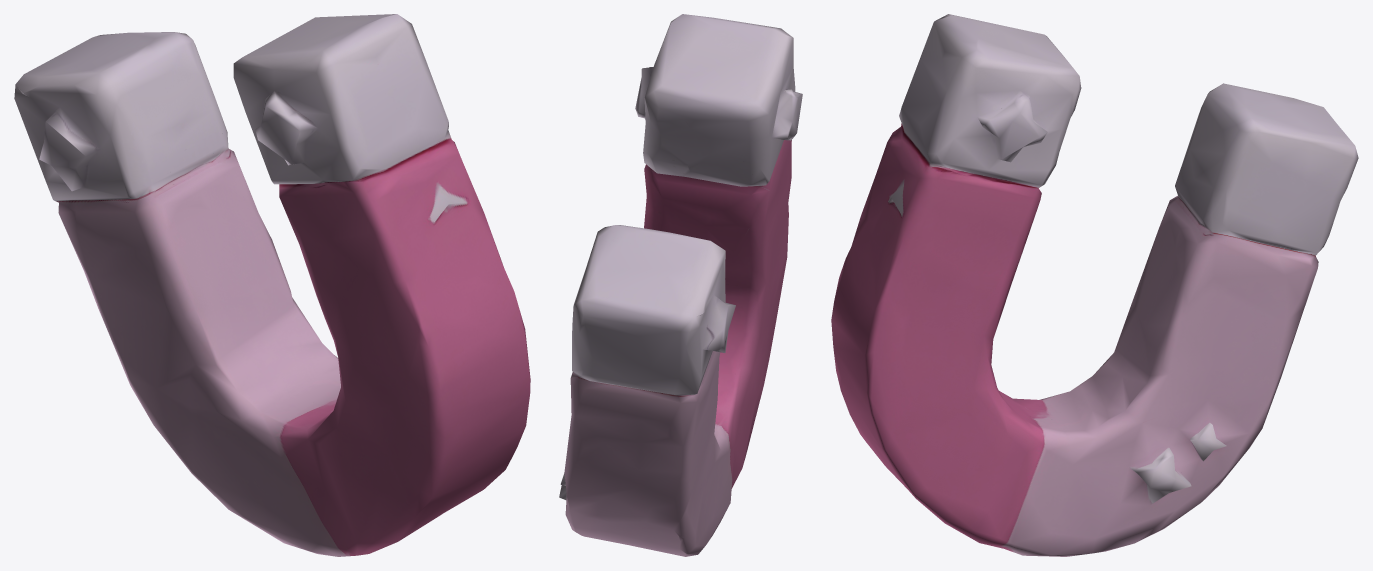
The model's file is magnet.glb.
3 views of the same model, side by side, from view 1: azimuth 30°, elevation 25°; view 2: azimuth 150°, elevation 25°; view 3: azimuth 270°, elevation 25° (orthographic). The views are drawn at different scales.
Visible parts, largest first — view 1: tripo_node_e7e6c78c-c551-4b8e-87db-8d314eee53e5; view 2: tripo_node_e7e6c78c-c551-4b8e-87db-8d314eee53e5; view 3: tripo_node_e7e6c78c-c551-4b8e-87db-8d314eee53e5.
Boxes of the visible parts, box(x1,y1,x2,y2) form: tripo_node_e7e6c78c-c551-4b8e-87db-8d314eee53e5: box(14, 14, 530, 556); tripo_node_e7e6c78c-c551-4b8e-87db-8d314eee53e5: box(559, 14, 802, 556); tripo_node_e7e6c78c-c551-4b8e-87db-8d314eee53e5: box(831, 14, 1358, 556).
Size of the model in its own units: 0.5416 by 1 by 0.953.
Materials: 1 (1 with a texture image).
